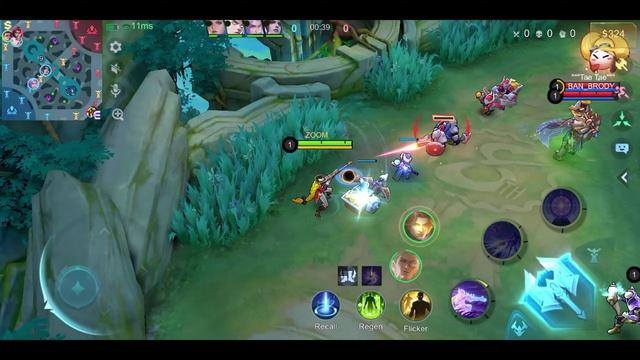bush: (160, 46, 460, 150), (213, 13, 597, 63), (228, 4, 640, 36)
hp_enemy: (565, 82, 619, 89), (563, 92, 617, 97)
hp_self: (299, 141, 352, 145)
minion_ally: (192, 79, 534, 275), (207, 72, 598, 234), (228, 52, 640, 188)
minion_enemy: (218, 63, 640, 194), (258, 32, 640, 122)
